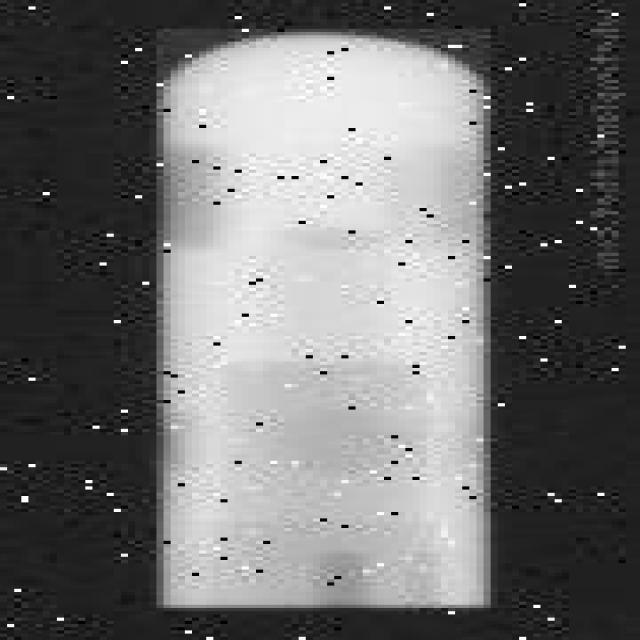Root canal obturation: (156, 27, 496, 608)
